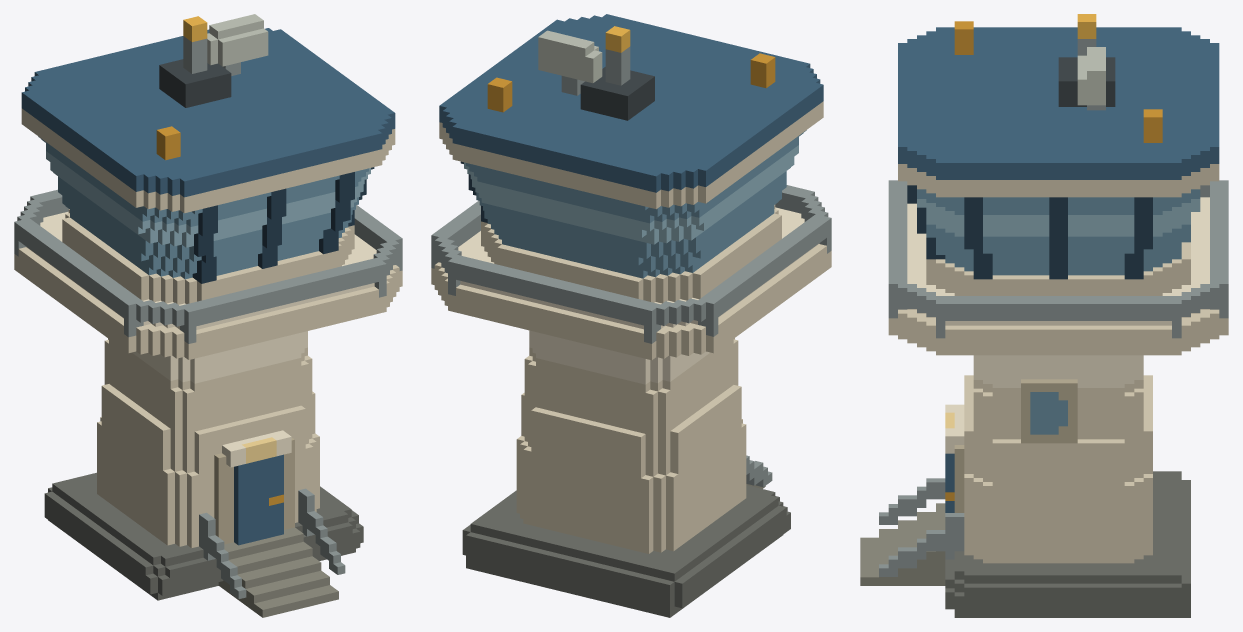
The model's file is control_tower.glb.
3 views of the same model, side by side, from view 1: azimuth 30°, elevation 25°; view 2: azimuth 150°, elevation 25°; view 3: azimuth 270°, elevation 25° (orthographic). The views are drawn at different scales.
Visible parts, largest first — view 1: control_tower; view 2: control_tower; view 3: control_tower.
Boxes of the visible parts, x1,y1,x2,y2 form: control_tower: (14, 14, 402, 617); control_tower: (431, 14, 831, 617); control_tower: (860, 14, 1228, 617).
Bounding box in the file's own units: 3.6 × 6.4 × 3.9.
